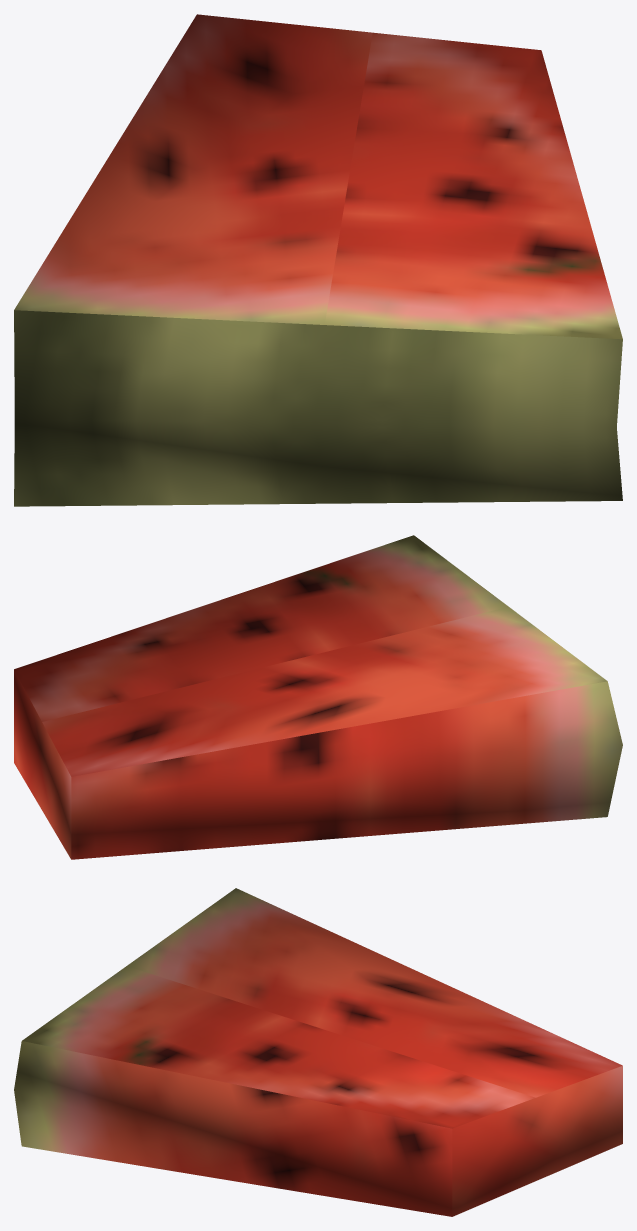
File: Piece melon.glb
3 views of the same model, one above another, from view 1: azimuth 30°, elevation 25°; view 2: azimuth 150°, elevation 25°; view 3: azimuth 270°, elevation 25° (orthographic). The views are drawn at different scales.
Visible parts, largest first — view 1: Piece melon; view 2: Piece melon; view 3: Piece melon.
Part boxes in pixels (box(x1,y1,x2,y2)): Piece melon: box(14, 14, 622, 506); Piece melon: box(14, 535, 622, 859); Piece melon: box(14, 888, 622, 1216).
Bounding box in the file's own units: 0.4189 × 0.1117 × 0.4811.
Materials: 1 (1 with a texture image).
